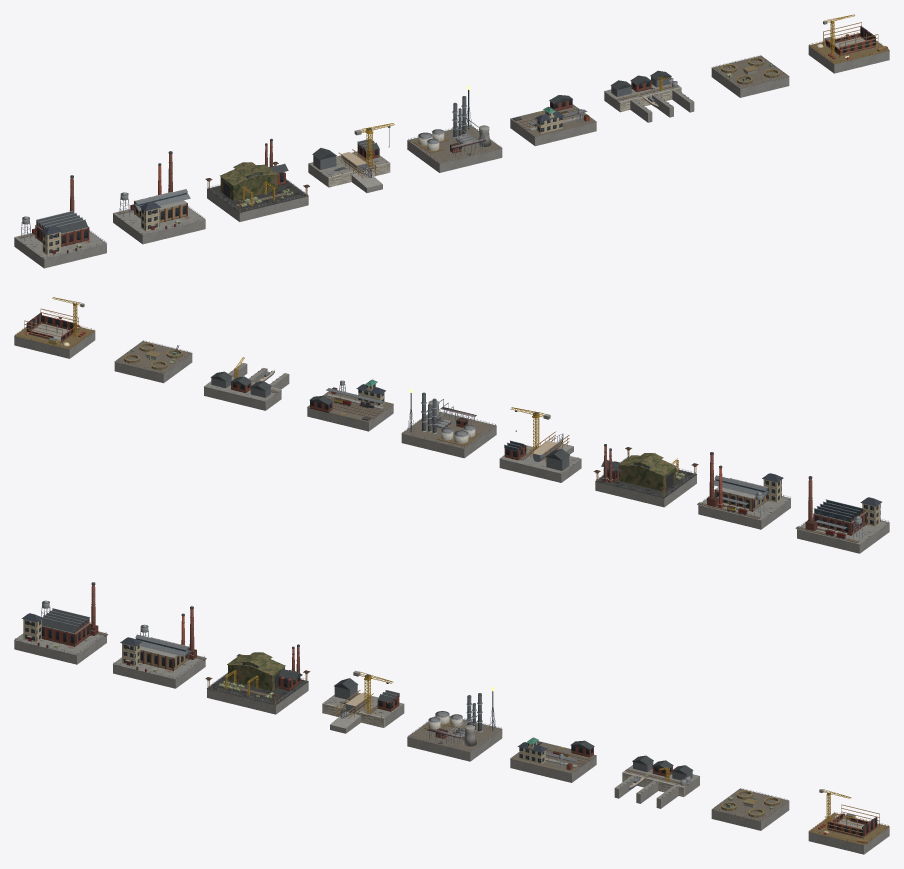
Rendered from industry.gltf.
3 renders of one model, top to bottom at view 1: azimuth 30°, elevation 25°; view 2: azimuth 150°, elevation 25°; view 3: azimuth 330°, elevation 25°, orthographic.
Visible parts, largest first — view 1: ind_military_factory, ind_civilian_factory_1, ind_civilian_factory_0, ind_refinery, ind_dockyard, ind_naval_base, ind_rail, ind_site, ind_anti_air; view 2: ind_military_factory, ind_civilian_factory_0, ind_civilian_factory_1, ind_refinery, ind_rail, ind_dockyard, ind_site, ind_naval_base, ind_anti_air; view 3: ind_military_factory, ind_civilian_factory_0, ind_civilian_factory_1, ind_refinery, ind_dockyard, ind_rail, ind_naval_base, ind_site, ind_anti_air.
Part boxes in pixels (x1=…): ind_military_factory: x1=205, y1=138, x2=309, y2=221; ind_civilian_factory_1: x1=113, y1=151, x2=205, y2=244; ind_civilian_factory_0: x1=14, y1=175, x2=106, y2=268; ind_refinery: x1=407, y1=90, x2=502, y2=172; ind_dockyard: x1=308, y1=131, x2=390, y2=192; ind_naval_base: x1=604, y1=70, x2=694, y2=122; ind_rail: x1=510, y1=95, x2=596, y2=146; ind_site: x1=808, y1=22, x2=889, y2=73; ind_anti_air: x1=711, y1=55, x2=789, y2=97; ind_military_factory: x1=593, y1=444, x2=698, y2=507; ind_civilian_factory_0: x1=797, y1=476, x2=889, y2=553; ind_civilian_factory_1: x1=698, y1=452, x2=790, y2=529; ind_refinery: x1=401, y1=392, x2=496, y2=458; ind_rail: x1=307, y1=379, x2=393, y2=431; ind_dockyard: x1=499, y1=415, x2=581, y2=482; ind_site: x1=14, y1=305, x2=95, y2=358; ind_naval_base: x1=204, y1=357, x2=289, y2=410; ind_anti_air: x1=114, y1=340, x2=192, y2=383; ind_military_factory: x1=205, y1=644, x2=310, y2=714; ind_civilian_factory_0: x1=14, y1=582, x2=106, y2=664; ind_civilian_factory_1: x1=113, y1=606, x2=205, y2=688; ind_refinery: x1=407, y1=691, x2=502, y2=761; ind_dockyard: x1=322, y1=677, x2=404, y2=733; ind_rail: x1=510, y1=737, x2=596, y2=782; ind_naval_base: x1=614, y1=755, x2=699, y2=808; ind_site: x1=808, y1=794, x2=889, y2=854; ind_anti_air: x1=711, y1=788, x2=789, y2=830.
Bounding box in the file's own units: 13.78 × 0.944 × 1.
42 materials, 27 textured.
